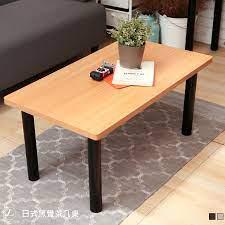desk: (6, 32, 208, 191)
